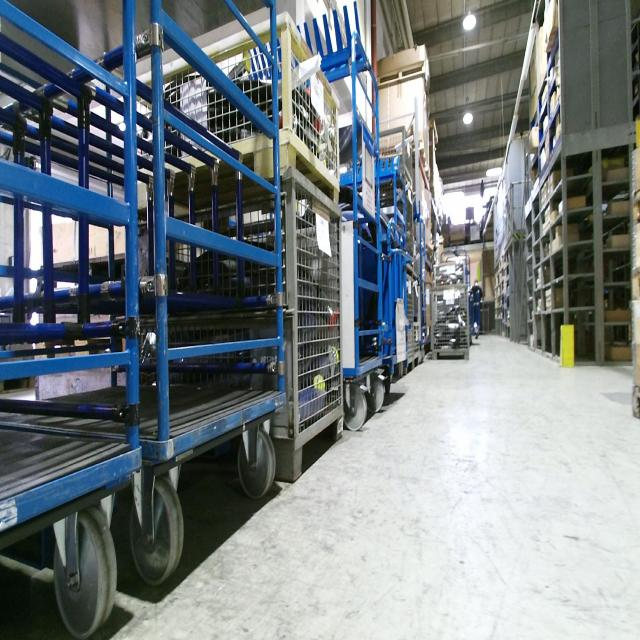pallet: (376, 139, 429, 183), (375, 64, 430, 91)
stillage: (123, 169, 347, 494), (129, 13, 344, 213), (343, 179, 413, 269), (429, 280, 474, 364), (373, 126, 413, 188), (399, 263, 413, 375), (432, 262, 471, 286), (413, 274, 422, 375)
